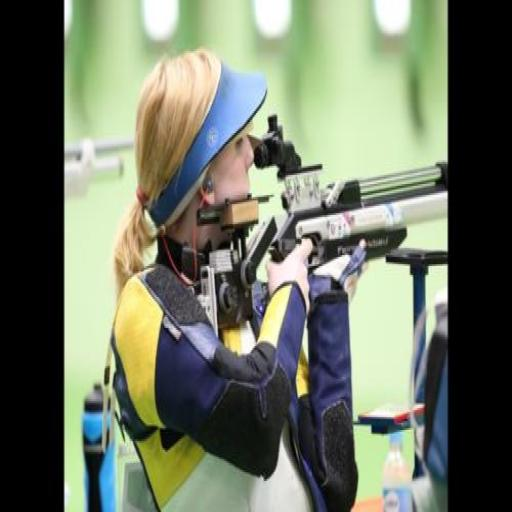shooting: (106, 46, 370, 510)
